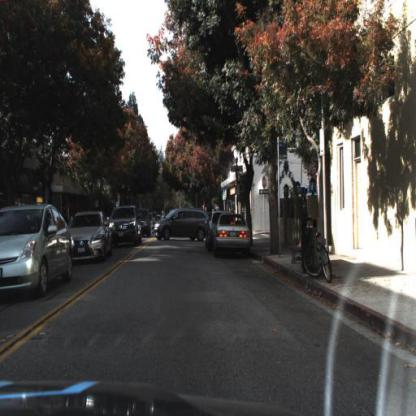car: (2, 201, 75, 298), (72, 205, 117, 265), (211, 210, 257, 261), (153, 203, 210, 244), (108, 203, 143, 254), (208, 210, 222, 251)
